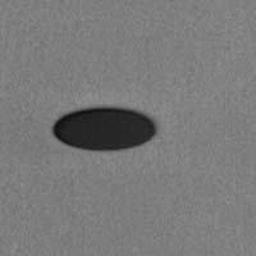Punching: (54, 108, 156, 154)
